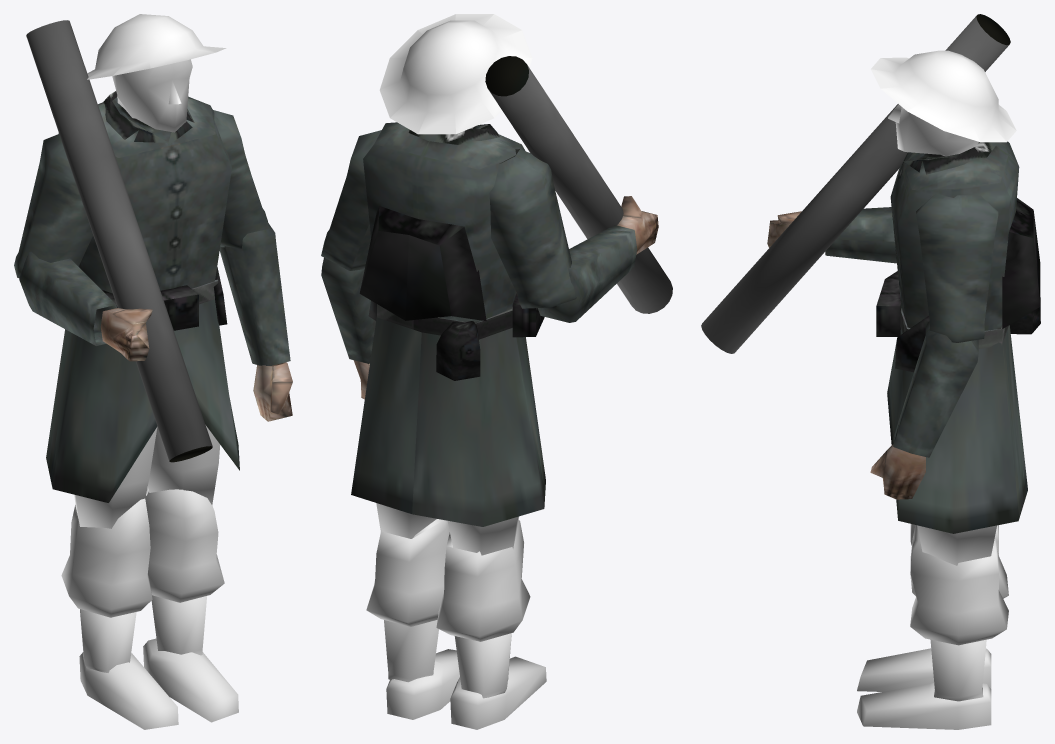
Rendered from britinfmort.dae.
The picture shows the model from 3 angles, left to right: view 1: azimuth 30°, elevation 25°; view 2: azimuth 150°, elevation 25°; view 3: azimuth 270°, elevation 25°; orthographic projection. The views are drawn at different scales.
Parts seen in each view (by area): view 1: torso, gun, rloleg, lloleg, head, lloarm, ruparm, rloarm, lfoot, rfoot, luparm, lupleg (+3 smaller); view 2: torso, head, gun, rloleg, ruparm, lloleg, rloarm, luparm, rfoot, lloarm, lfoot, rupleg (+2 smaller); view 3: torso, gun, lloleg, head, luparm, lloarm, lfoot, rfoot, rloarm, lupleg, lhand.
Part boxes in pixels (left/top/right/bottom): torso: left=46, top=91, right=239, bottom=502; gun: left=26, top=20, right=212, bottom=462; rloleg: left=61, top=498, right=152, bottom=672; lloleg: left=145, top=488, right=224, bottom=655; head: left=87, top=14, right=226, bottom=132; lloarm: left=219, top=222, right=290, bottom=365; ruparm: left=14, top=134, right=93, bottom=277; rloarm: left=19, top=251, right=116, bottom=345; lfoot: left=143, top=638, right=238, bottom=722; rfoot: left=79, top=652, right=178, bottom=729; luparm: left=213, top=110, right=268, bottom=248; lupleg: left=147, top=425, right=220, bottom=505; torso: left=351, top=122, right=545, bottom=526; head: left=379, top=14, right=532, bottom=134; gun: left=485, top=56, right=672, bottom=313; rloleg: left=436, top=520, right=530, bottom=698; ruparm: left=489, top=149, right=576, bottom=308; lloleg: left=366, top=519, right=449, bottom=682; rloarm: left=538, top=225, right=637, bottom=322; luparm: left=321, top=130, right=381, bottom=270; rfoot: left=450, top=656, right=546, bottom=729; lloarm: left=321, top=257, right=375, bottom=363; lfoot: left=386, top=649, right=459, bottom=719; rupleg: left=447, top=516, right=518, bottom=555; torso: left=876, top=141, right=1040, bottom=533; gun: left=701, top=14, right=1010, bottom=353; lloleg: left=910, top=525, right=1008, bottom=701; head: left=871, top=50, right=1016, bottom=156; luparm: left=916, top=193, right=998, bottom=342; lloarm: left=893, top=321, right=978, bottom=457; lfoot: left=857, top=683, right=991, bottom=729; rfoot: left=857, top=648, right=991, bottom=691; rloarm: left=825, top=207, right=896, bottom=263; lupleg: left=917, top=525, right=996, bottom=565; lhand: left=870, top=444, right=925, bottom=499.
Size of the model in its own units: 8.66 by 10.51 by 22.24.
3 materials, 1 textured.
